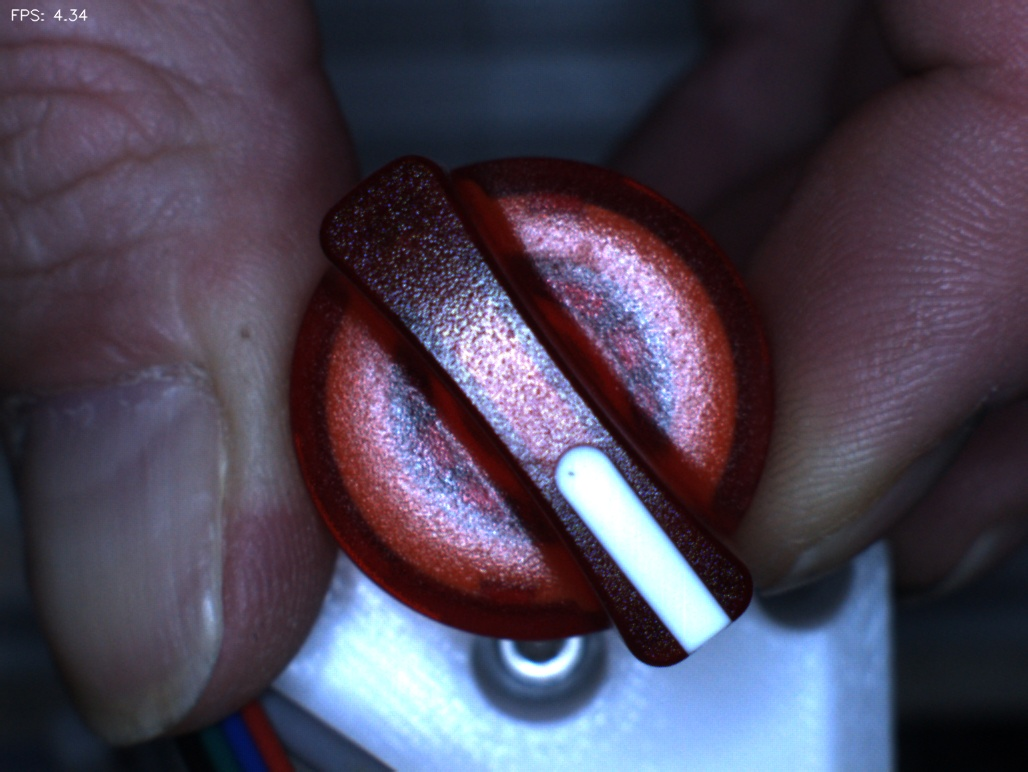PointNoir: (540, 443, 605, 504)
